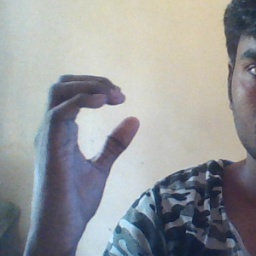C: (51, 68, 142, 179)
